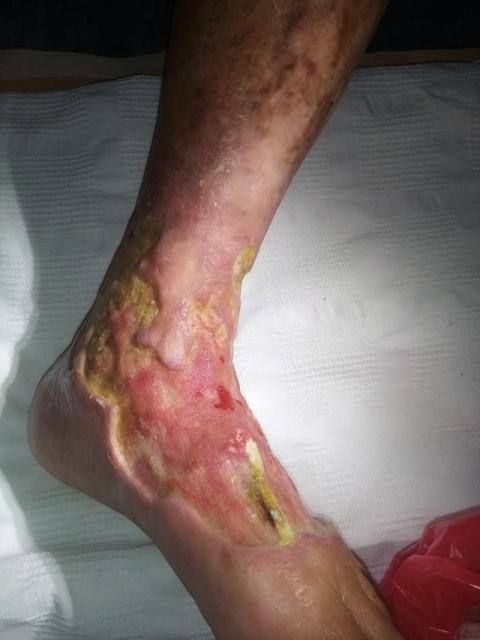wound: (70, 204, 325, 548)
